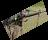gun: (1, 0, 48, 40)
